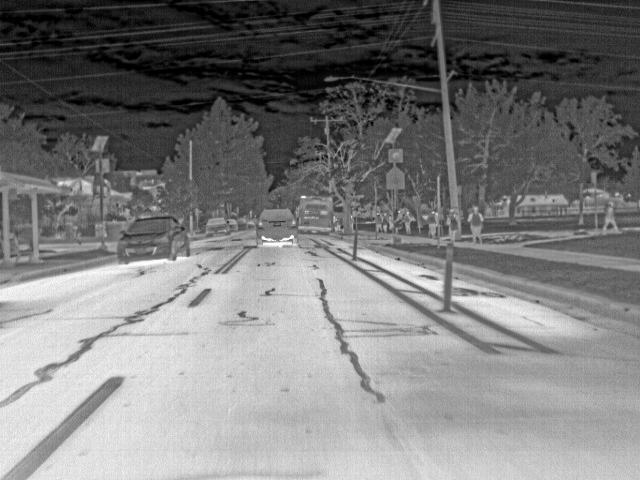car: (117, 214, 191, 264), (256, 208, 296, 248), (205, 218, 231, 236), (245, 218, 258, 232), (226, 218, 239, 232), (237, 218, 250, 232)
person: (599, 199, 621, 233), (466, 204, 484, 245), (446, 208, 460, 243), (426, 209, 438, 239), (401, 209, 414, 235), (393, 208, 403, 231), (372, 210, 382, 231), (381, 210, 389, 232), (388, 214, 395, 230), (333, 214, 339, 228)
